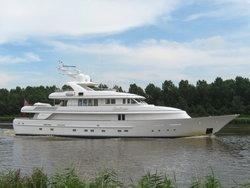yacht: (13, 59, 239, 138)
